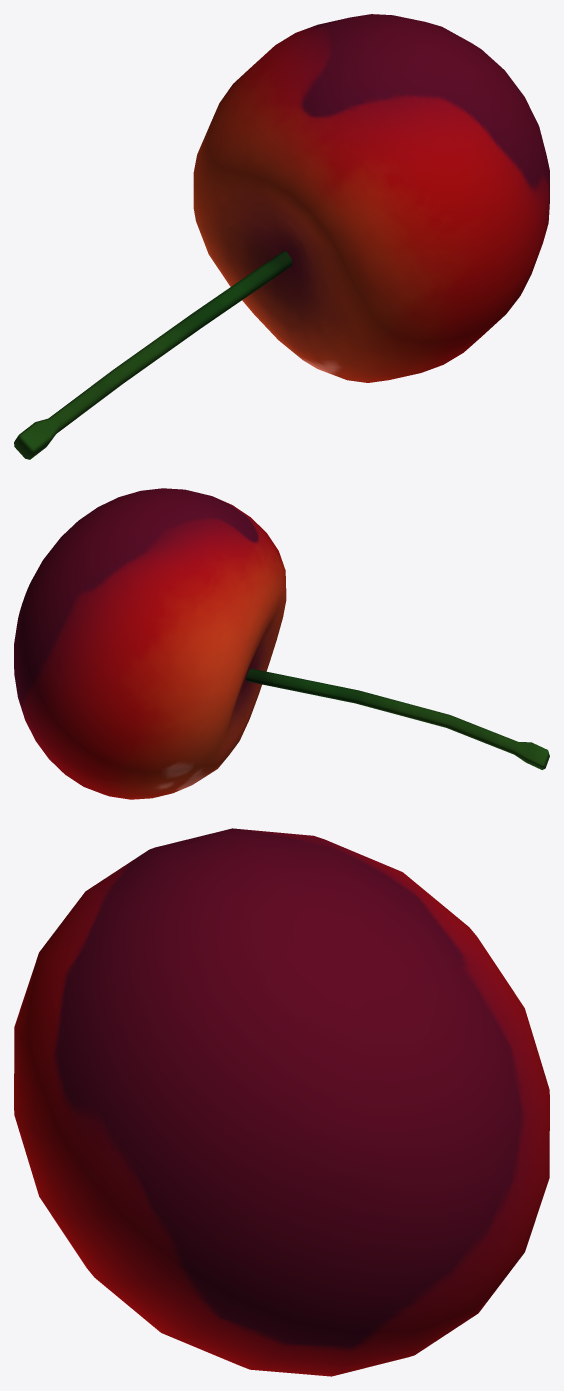
Rendered from cherry.obj.
3 views of the same model, one above another, from view 1: azimuth 30°, elevation 25°; view 2: azimuth 150°, elevation 25°; view 3: azimuth 270°, elevation 25° (orthographic). The views are drawn at different scales.
Parts seen in each view (by area): view 1: dynamic; view 2: dynamic; view 3: dynamic.
Part boxes in pixels (bbox=[...]): dynamic: bbox=[14, 14, 549, 459]; dynamic: bbox=[14, 488, 549, 799]; dynamic: bbox=[14, 828, 549, 1376].
Size of the model in its own units: 328 by 191 by 184.
1 material, 1 textured.
